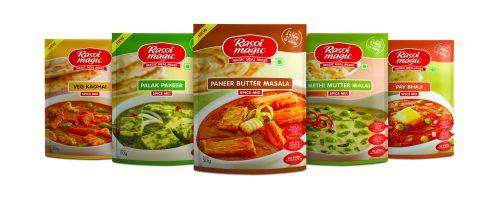VEG: (274, 57, 284, 66), (183, 62, 191, 71), (428, 66, 437, 74), (360, 62, 368, 70)
